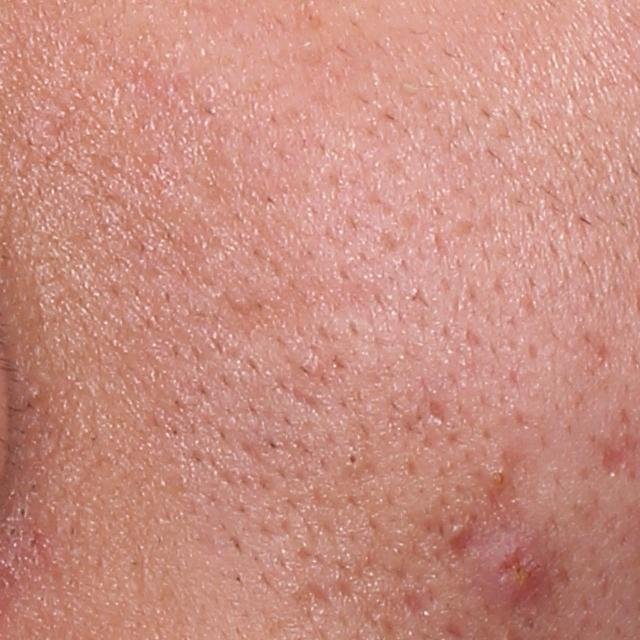atrophic_scar: (594, 432, 637, 481), (426, 395, 454, 426)
comedo: (489, 465, 515, 491), (342, 446, 364, 471)
papule: (478, 534, 556, 613)
